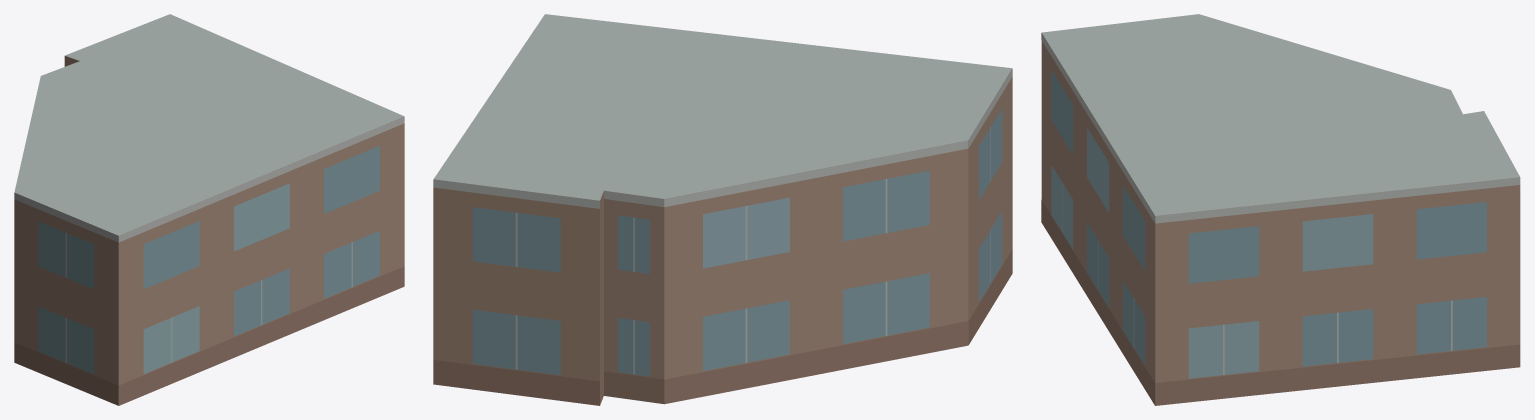
File: survey-upis-32695001.glb
The picture shows the model from 3 angles, left to right: view 1: azimuth 30°, elevation 25°; view 2: azimuth 150°, elevation 25°; view 3: azimuth 270°, elevation 25°; orthographic projection. The views are drawn at different scales.
Parts seen in each view (by area): view 1: survey-upis-32695001.tmp; view 2: survey-upis-32695001.tmp; view 3: survey-upis-32695001.tmp.
Part boxes in pixels (x1,y1,x2,y2): survey-upis-32695001.tmp: [14, 14, 404, 405]; survey-upis-32695001.tmp: [433, 14, 1012, 405]; survey-upis-32695001.tmp: [1041, 14, 1520, 405].
Bounding box in the file's own units: 13.93 × 6.1 × 13.95.
